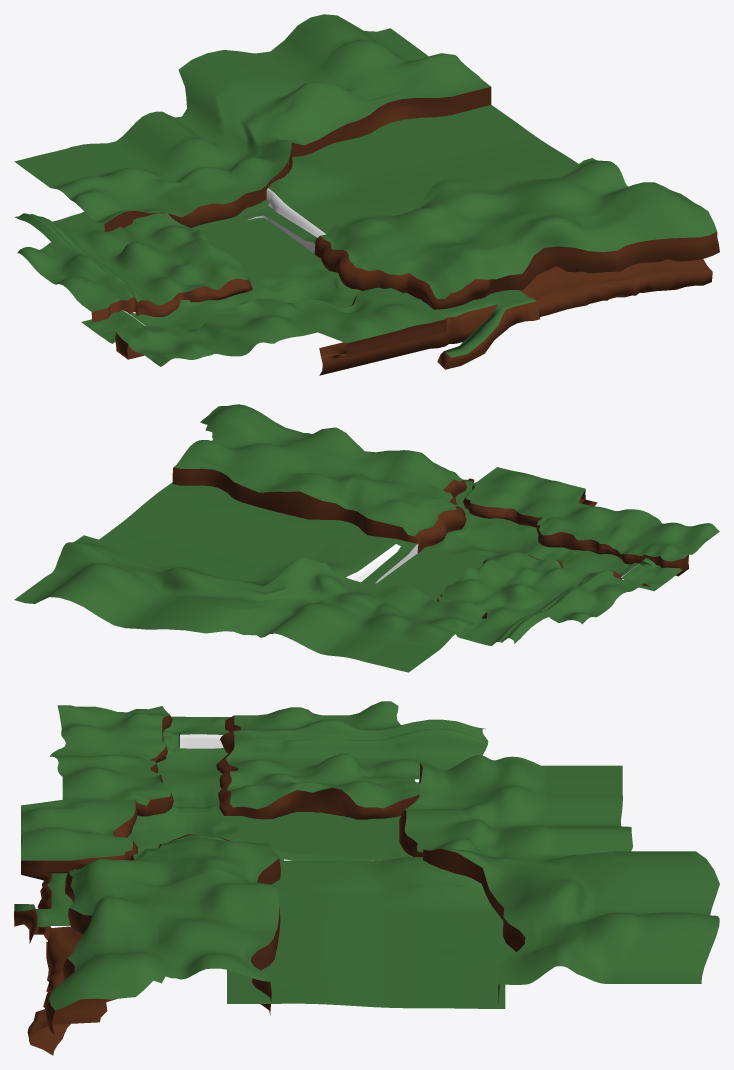
The model's file is Terreno.fbx.
The picture shows the model from 3 angles, top to bottom: view 1: azimuth 30°, elevation 25°; view 2: azimuth 150°, elevation 25°; view 3: azimuth 270°, elevation 25°; orthographic projection. The views are drawn at different scales.
Visible parts, largest first — view 1: Montanha1, Montanha4, Terreno_Parte5, Montanha3, Montanha2, Montanha4.001, Terreno_Parte6, Terreno_Limite, Montanha1.001, Terreno_Parte2, Terreno_Parte4, Terreno_Parte3 (+4 smaller); view 2: Montanha1, Montanha4, Terreno_Parte5, Montanha3, Montanha2, Montanha4.001, Terreno_Parte2, Terreno_Parte4, Montanha2.001, Terreno_Parte3, Terreno_Parte1, Rampa2; view 3: Montanha1, Terreno_Parte5, Montanha4, Montanha3, Montanha2, Terreno_Parte4, Terreno_Parte3, Terreno_Parte2, Montanha3.001, Terreno_Parte1, Terreno_Limite, Montanha1.001 (+4 smaller).
Boxes of the visible parts, left/top/right/bottom form: Montanha1: left=14, top=14, right=490, bottom=223; Montanha4: left=320, top=158, right=716, bottom=298; Terreno_Parte5: left=295, top=105, right=578, bottom=213; Montanha3: left=14, top=211, right=248, bottom=311; Montanha2: left=116, top=287, right=445, bottom=366; Montanha4.001: left=314, top=232, right=719, bottom=309; Terreno_Parte6: left=319, top=290, right=539, bottom=375; Terreno_Limite: left=520, top=259, right=712, bottom=316; Montanha1.001: left=104, top=87, right=491, bottom=231; Terreno_Parte2: left=203, top=255, right=361, bottom=317; Terreno_Parte4: left=240, top=156, right=365, bottom=243; Terreno_Parte3: left=191, top=199, right=314, bottom=272; Montanha1: left=14, top=535, right=486, bottom=672; Montanha4: left=173, top=404, right=462, bottom=536; Terreno_Parte5: left=99, top=482, right=355, bottom=581; Montanha3: left=437, top=551, right=643, bottom=645; Montanha2: left=466, top=467, right=719, bottom=561; Montanha4.001: left=172, top=467, right=466, bottom=553; Terreno_Parte2: left=420, top=513, right=577, bottom=566; Terreno_Parte4: left=312, top=525, right=417, bottom=583; Montanha2.001: left=463, top=485, right=688, bottom=576; Terreno_Parte3: left=378, top=552, right=479, bottom=601; Terreno_Parte1: left=561, top=550, right=681, bottom=591; Rampa2: left=346, top=544, right=418, bottom=583; Montanha1: left=404, top=755, right=719, bottom=984; Terreno_Parte5: left=227, top=886, right=515, bottom=1008; Montanha4: left=49, top=835, right=279, bottom=1010; Montanha3: left=226, top=701, right=488, bottom=809; Montanha2: left=21, top=705, right=171, bottom=860; Terreno_Parte4: left=272, top=850, right=483, bottom=893; Terreno_Parte3: left=268, top=812, right=412, bottom=858; Terreno_Parte2: left=127, top=788, right=268, bottom=852; Montanha3.001: left=216, top=716, right=419, bottom=819; Terreno_Parte1: left=156, top=716, right=230, bottom=791; Terreno_Limite: left=27, top=926, right=116, bottom=1055; Montanha1.001: left=399, top=763, right=525, bottom=1003.
Size of the model in its own units: 58939 by 9287 by 56974.
